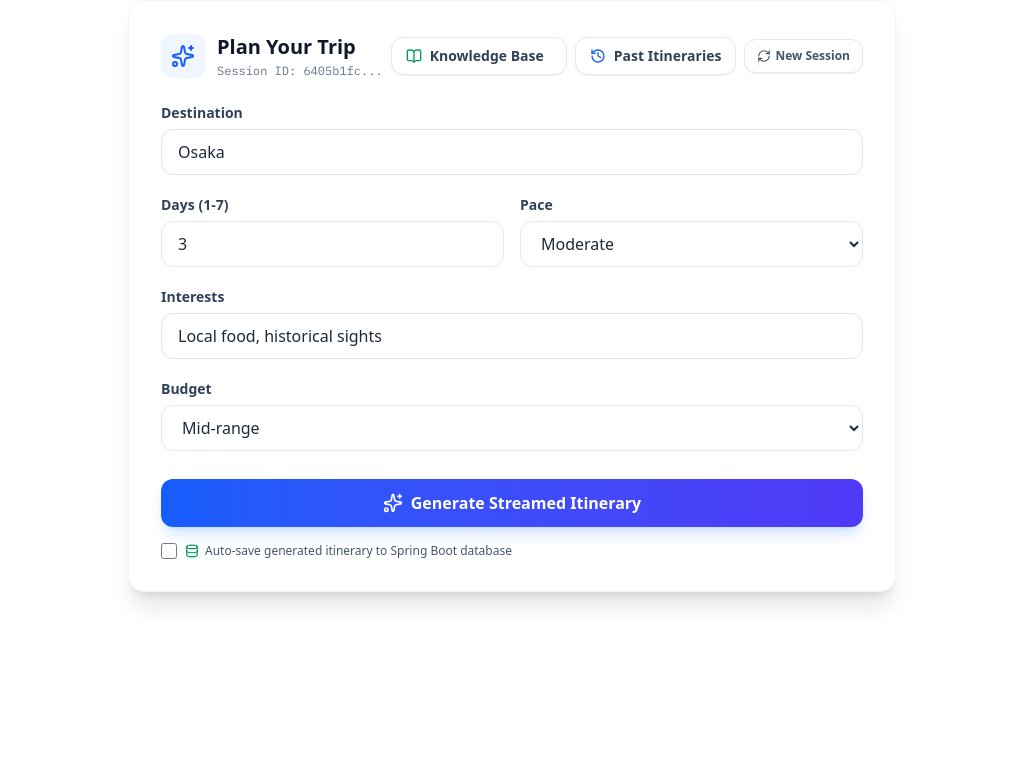
ItineraryForm Component › Form Submission (handleSubmit) & SSE Streaming › handles network failure during submission
Click the button "Generate Streamed Itinerary" at (512, 503), box [161, 479, 863, 527]
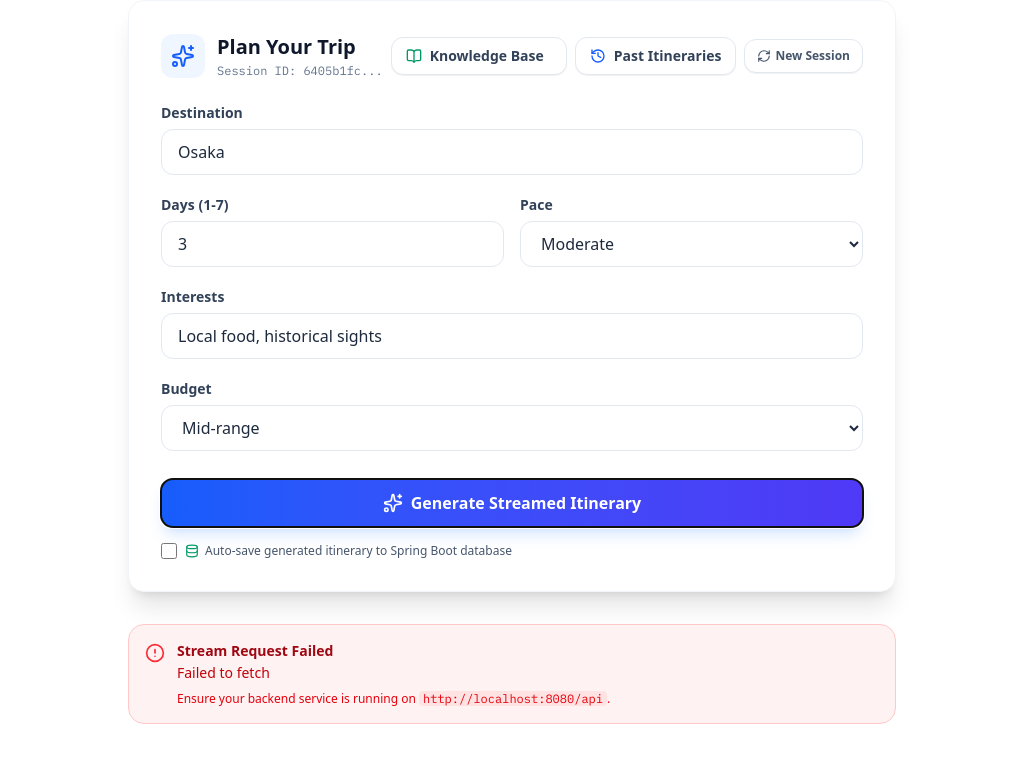
Now the text "Failed to fetch" is shown, box [177, 663, 270, 682]
